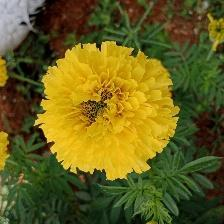marigold: (38, 42, 182, 182)
